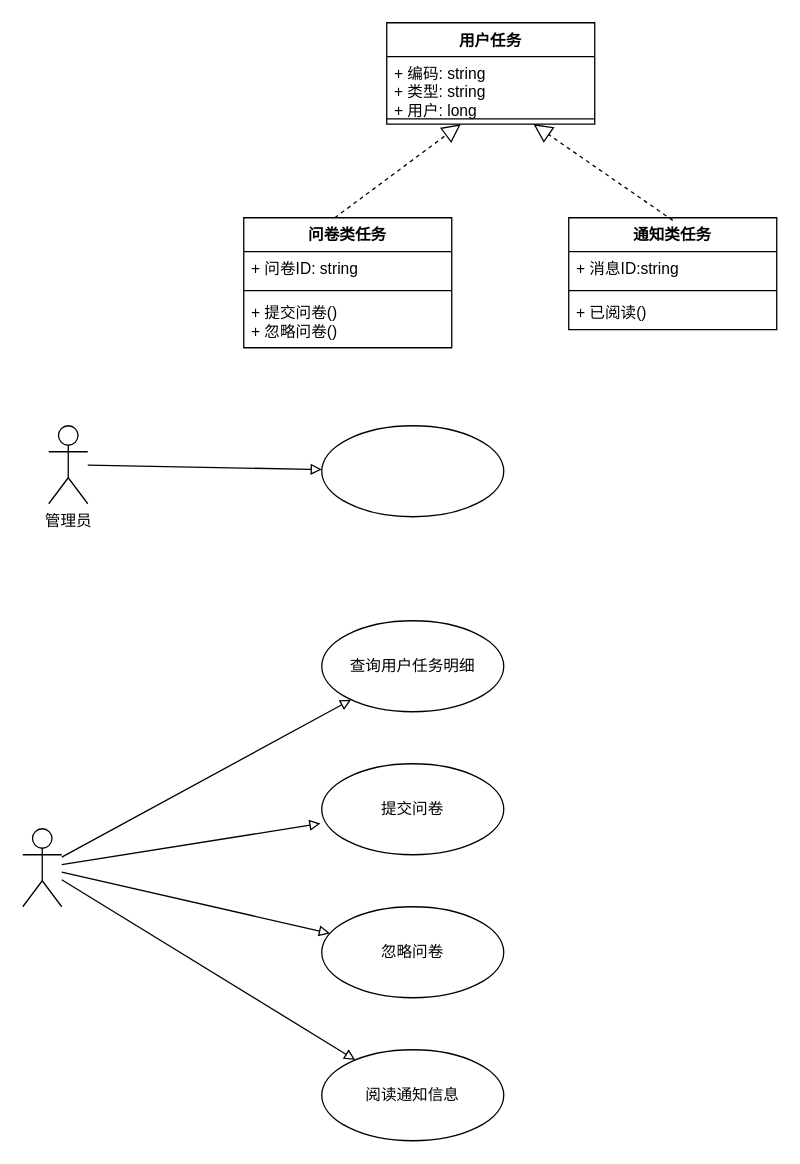
The diagram is 800 pixels wide and 1164 high, and some of its shapes have lost their labels. The centre of each missing label's shape, as x and y in pixels:
"创建用户任务" belongs at pixel 412 470.
"用户" belongs at pixel 41 867.
